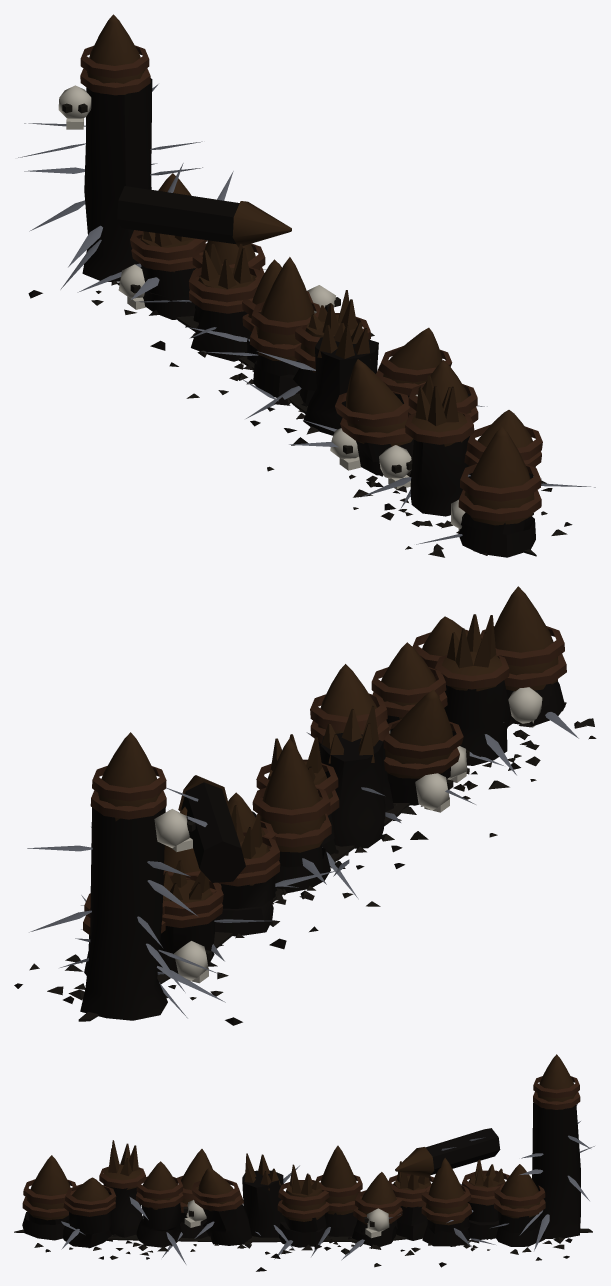
Rendered from TarPRWall03a.glb.
3 renders of one model, top to bottom at view 1: azimuth 30°, elevation 25°; view 2: azimuth 150°, elevation 25°; view 3: azimuth 270°, elevation 25°, orthographic. The views are drawn at different scales.
Visible parts, largest first — view 1: pal_body; view 2: pal_body; view 3: pal_body.
Boxes of the visible parts, x1,y1,x2,y2 form: pal_body: (18,14,595,557); pal_body: (14,586,596,1025); pal_body: (14,1054,594,1271).
Bounding box in the file's own units: 4.21 × 4.67 × 13.47.
